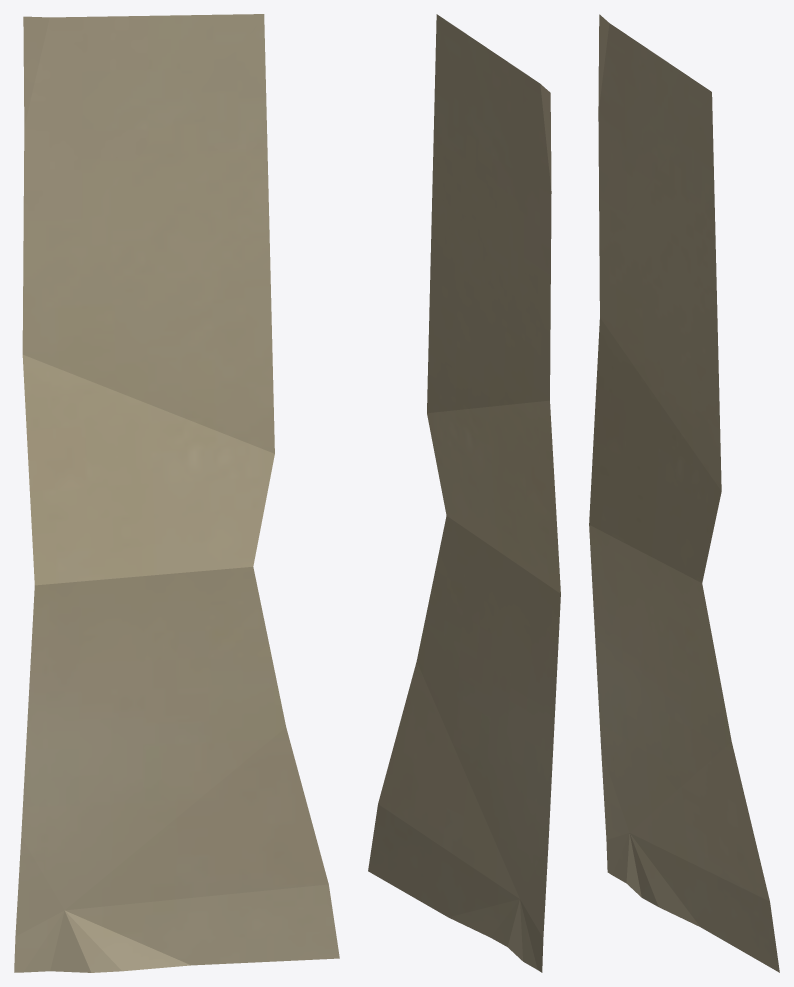
3 renders of one model, left to right at view 1: azimuth 30°, elevation 25°; view 2: azimuth 150°, elevation 25°; view 3: azimuth 330°, elevation 25°, orthographic. The views are drawn at different scales.
Size of the model in its own units: 0.2355 by 0.8374 by 0.1054.
1 material, 1 textured.
